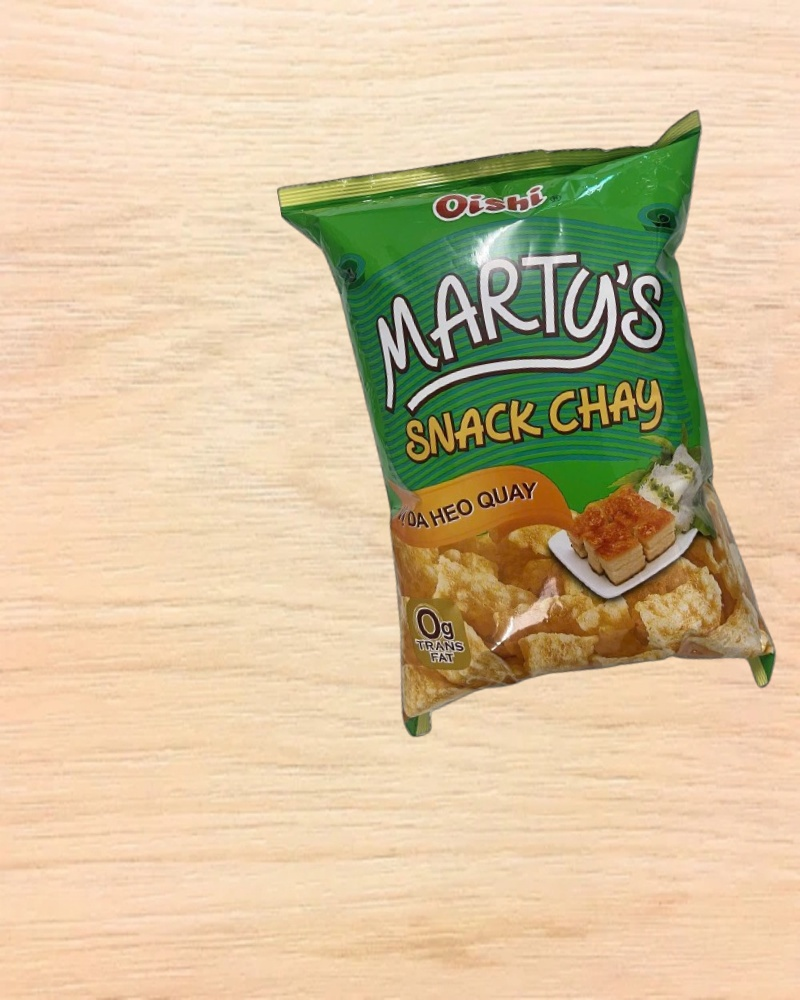Snack chay: (277, 110, 800, 756)
